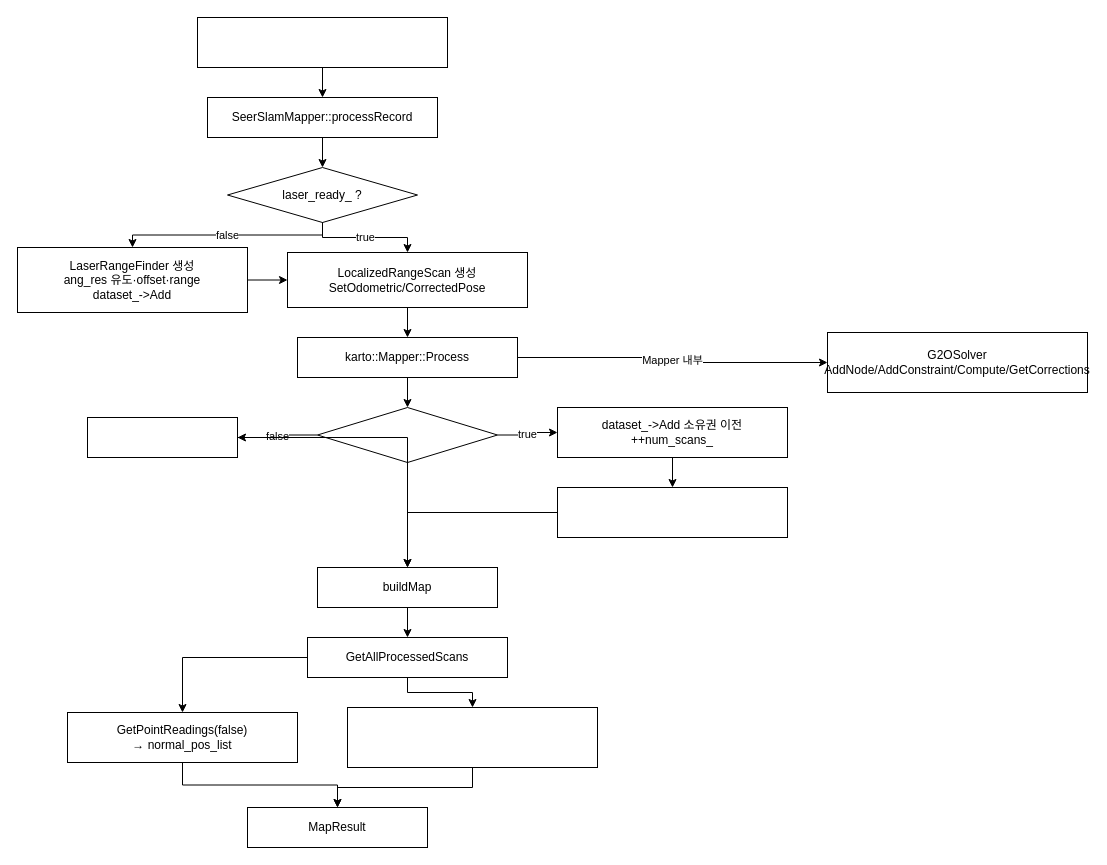
Image size: 1107x865. Some labels were removed from this diagram. Each missing label, with the box of its shape:
added ?: (316, 406, 498, 462)
delete pScan: (86, 416, 238, 458)
MapLogRecord odo_x/y/w + beam_dist/angle/rssi: (196, 16, 448, 68)
rssi 끝점 로봇좌표 저장 rssi_by_scan_: (556, 486, 788, 538)
rssi_by_scan_ 선형탐색 보정포즈로 월드변환 → rssi_pos_list: (346, 706, 598, 768)
